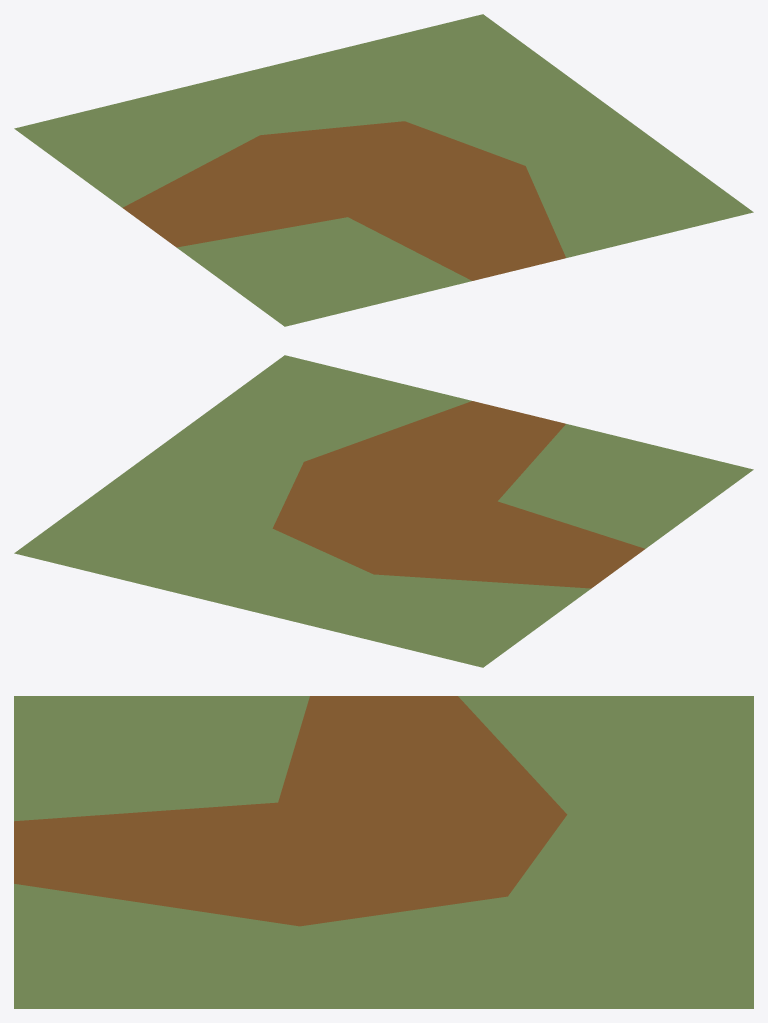
The model's file is SA_Env_Dirt_Corner_EdgePAth.fbx.
The picture shows the model from 3 angles, top to bottom: view 1: azimuth 30°, elevation 25°; view 2: azimuth 150°, elevation 25°; view 3: azimuth 270°, elevation 25°; orthographic projection. The views are drawn at different scales.
Parts seen in each view (by area): view 1: SA_Env_Dirt_Corner_07; view 2: SA_Env_Dirt_Corner_07; view 3: SA_Env_Dirt_Corner_07.
Boxes of the visible parts, <box> form: SA_Env_Dirt_Corner_07: <box>14,14,753,326</box>; SA_Env_Dirt_Corner_07: <box>14,355,753,667</box>; SA_Env_Dirt_Corner_07: <box>14,696,753,1008</box>.
Bounding box in the file's own units: 15 × 0 × 15.
